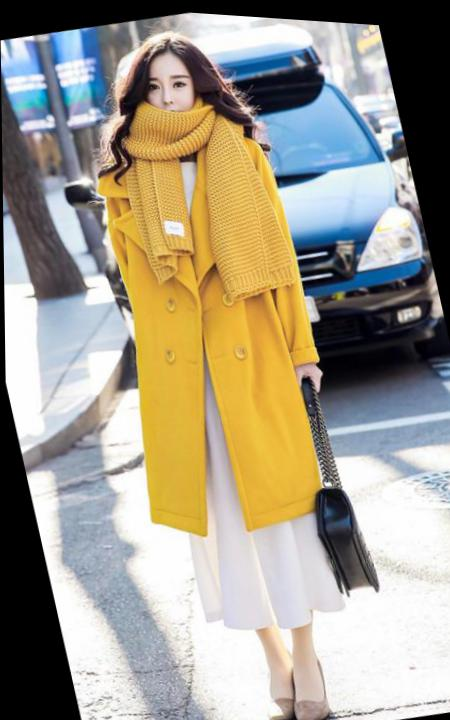WRONG: (139, 60, 206, 129)
